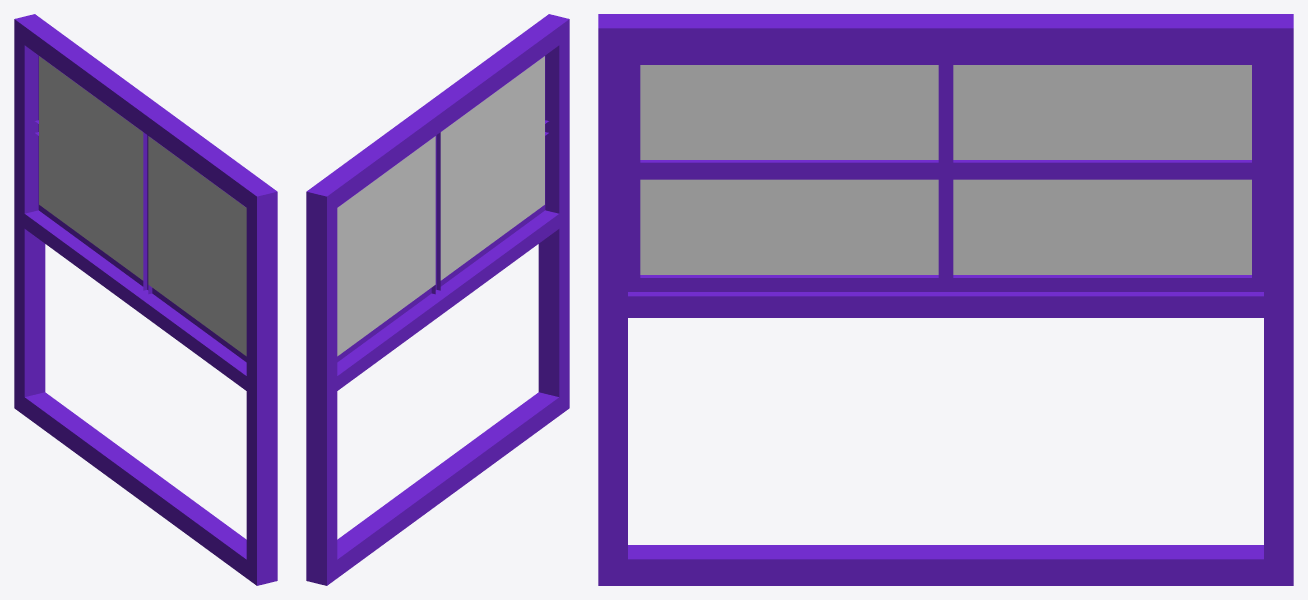
The model's file is Marco_ventana.fbx.
3 views of the same model, side by side, from view 1: azimuth 30°, elevation 25°; view 2: azimuth 150°, elevation 25°; view 3: azimuth 270°, elevation 25° (orthographic). The views are drawn at different scales.
Visible parts, largest first — view 1: Marco_Ventana.003; view 2: Marco_Ventana.003; view 3: Marco_Ventana.003.
Boxes of the visible parts, <box> form: Marco_Ventana.003: <box>14,14,277,585</box>; Marco_Ventana.003: <box>306,14,569,585</box>; Marco_Ventana.003: <box>598,14,1293,585</box>.
Bounding box in the file's own units: 0.0623 × 1.13 × 1.27.
